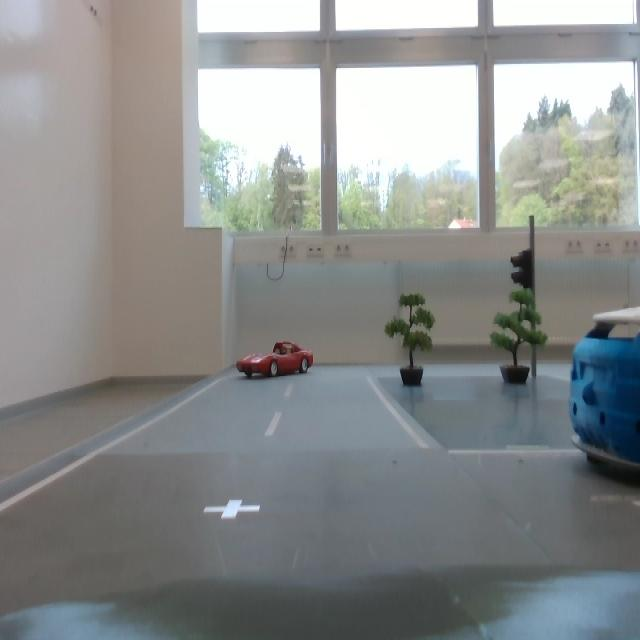car: (569, 302, 640, 506), (236, 337, 317, 386)
potted plant: (489, 281, 552, 367), (386, 291, 432, 369)
traffic light: (510, 247, 538, 296)
